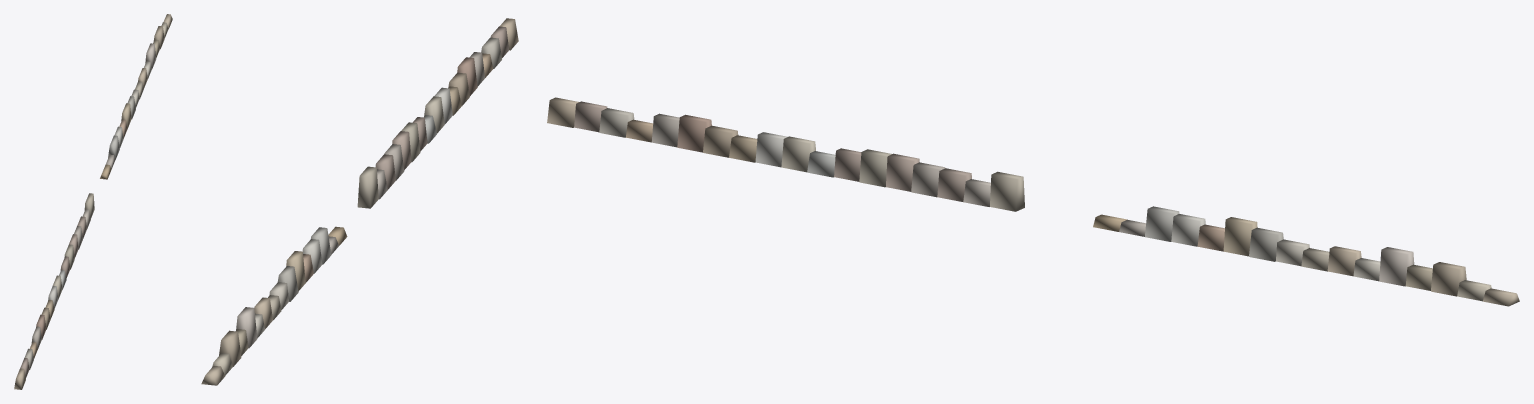
The model's file is farm_-29_-29_collision.glb.
3 renders of one model, left to right at view 1: azimuth 30°, elevation 25°; view 2: azimuth 210°, elevation 25°; view 3: azimuth 270°, elevation 25°, orthographic. The views are drawn at different scales.
Parts seen in each view (by area): view 1: geometry_0; view 2: geometry_0; view 3: geometry_0.
Part boxes in pixels (<box>): geometry_0: <box>14,14,172,389</box>; geometry_0: <box>201,18,518,385</box>; geometry_0: <box>547,97,1519,306</box>.
Size of the model in its own units: 40.72 by 10.48 by 43.27.
